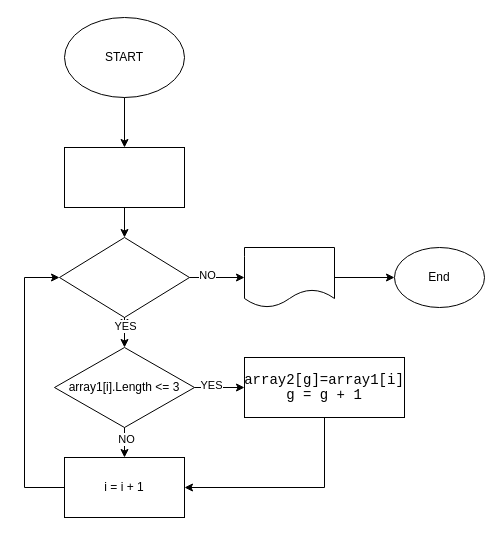
Some shapes in this 502 by 535 pixel diagram are drawn without their labels. Here are the shapes that lost their labels. From the top down, the box of each, then its label:
(64, 146, 184, 208): array1 array2 g = 0 i = 0
(58, 236, 190, 318): i < array1.Length
(244, 246, 334, 308): Print array2
